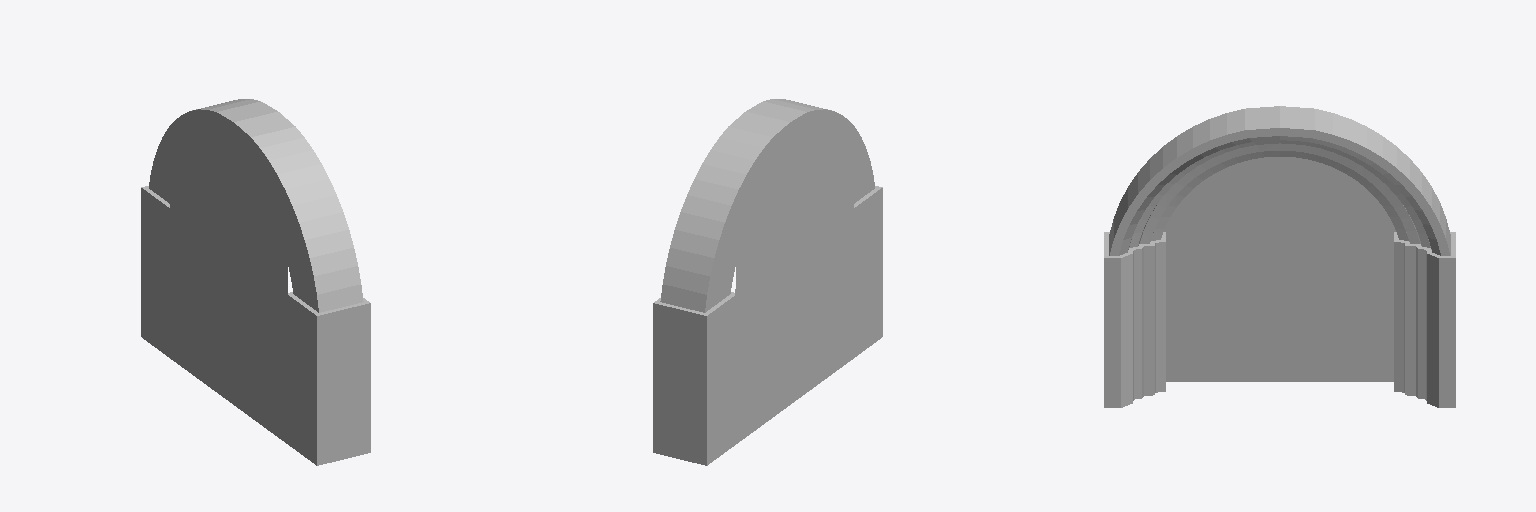
File: gate.obj
3 renders of one model, left to right at view 1: azimuth 30°, elevation 25°; view 2: azimuth 150°, elevation 25°; view 3: azimuth 270°, elevation 25°, orthographic.
Visible parts, largest first — view 1: Cube; view 2: Cube; view 3: Cube.
Part boxes in pixels (bbox=[...]): Cube: bbox=[141, 99, 370, 465]; Cube: bbox=[653, 99, 882, 465]; Cube: bbox=[1104, 106, 1455, 407].
Bounding box in the file's own units: 2.01 × 9.89 × 11.33.